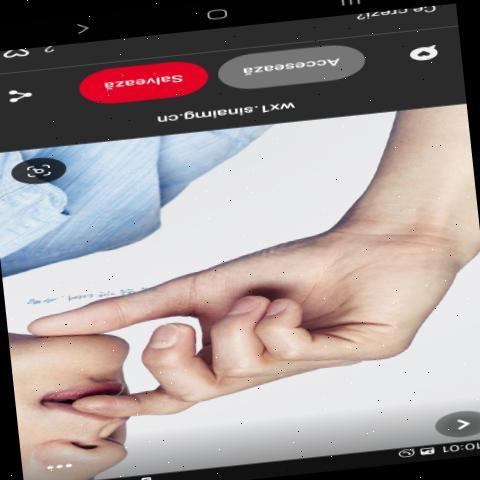Hands: (22, 224, 451, 420)
